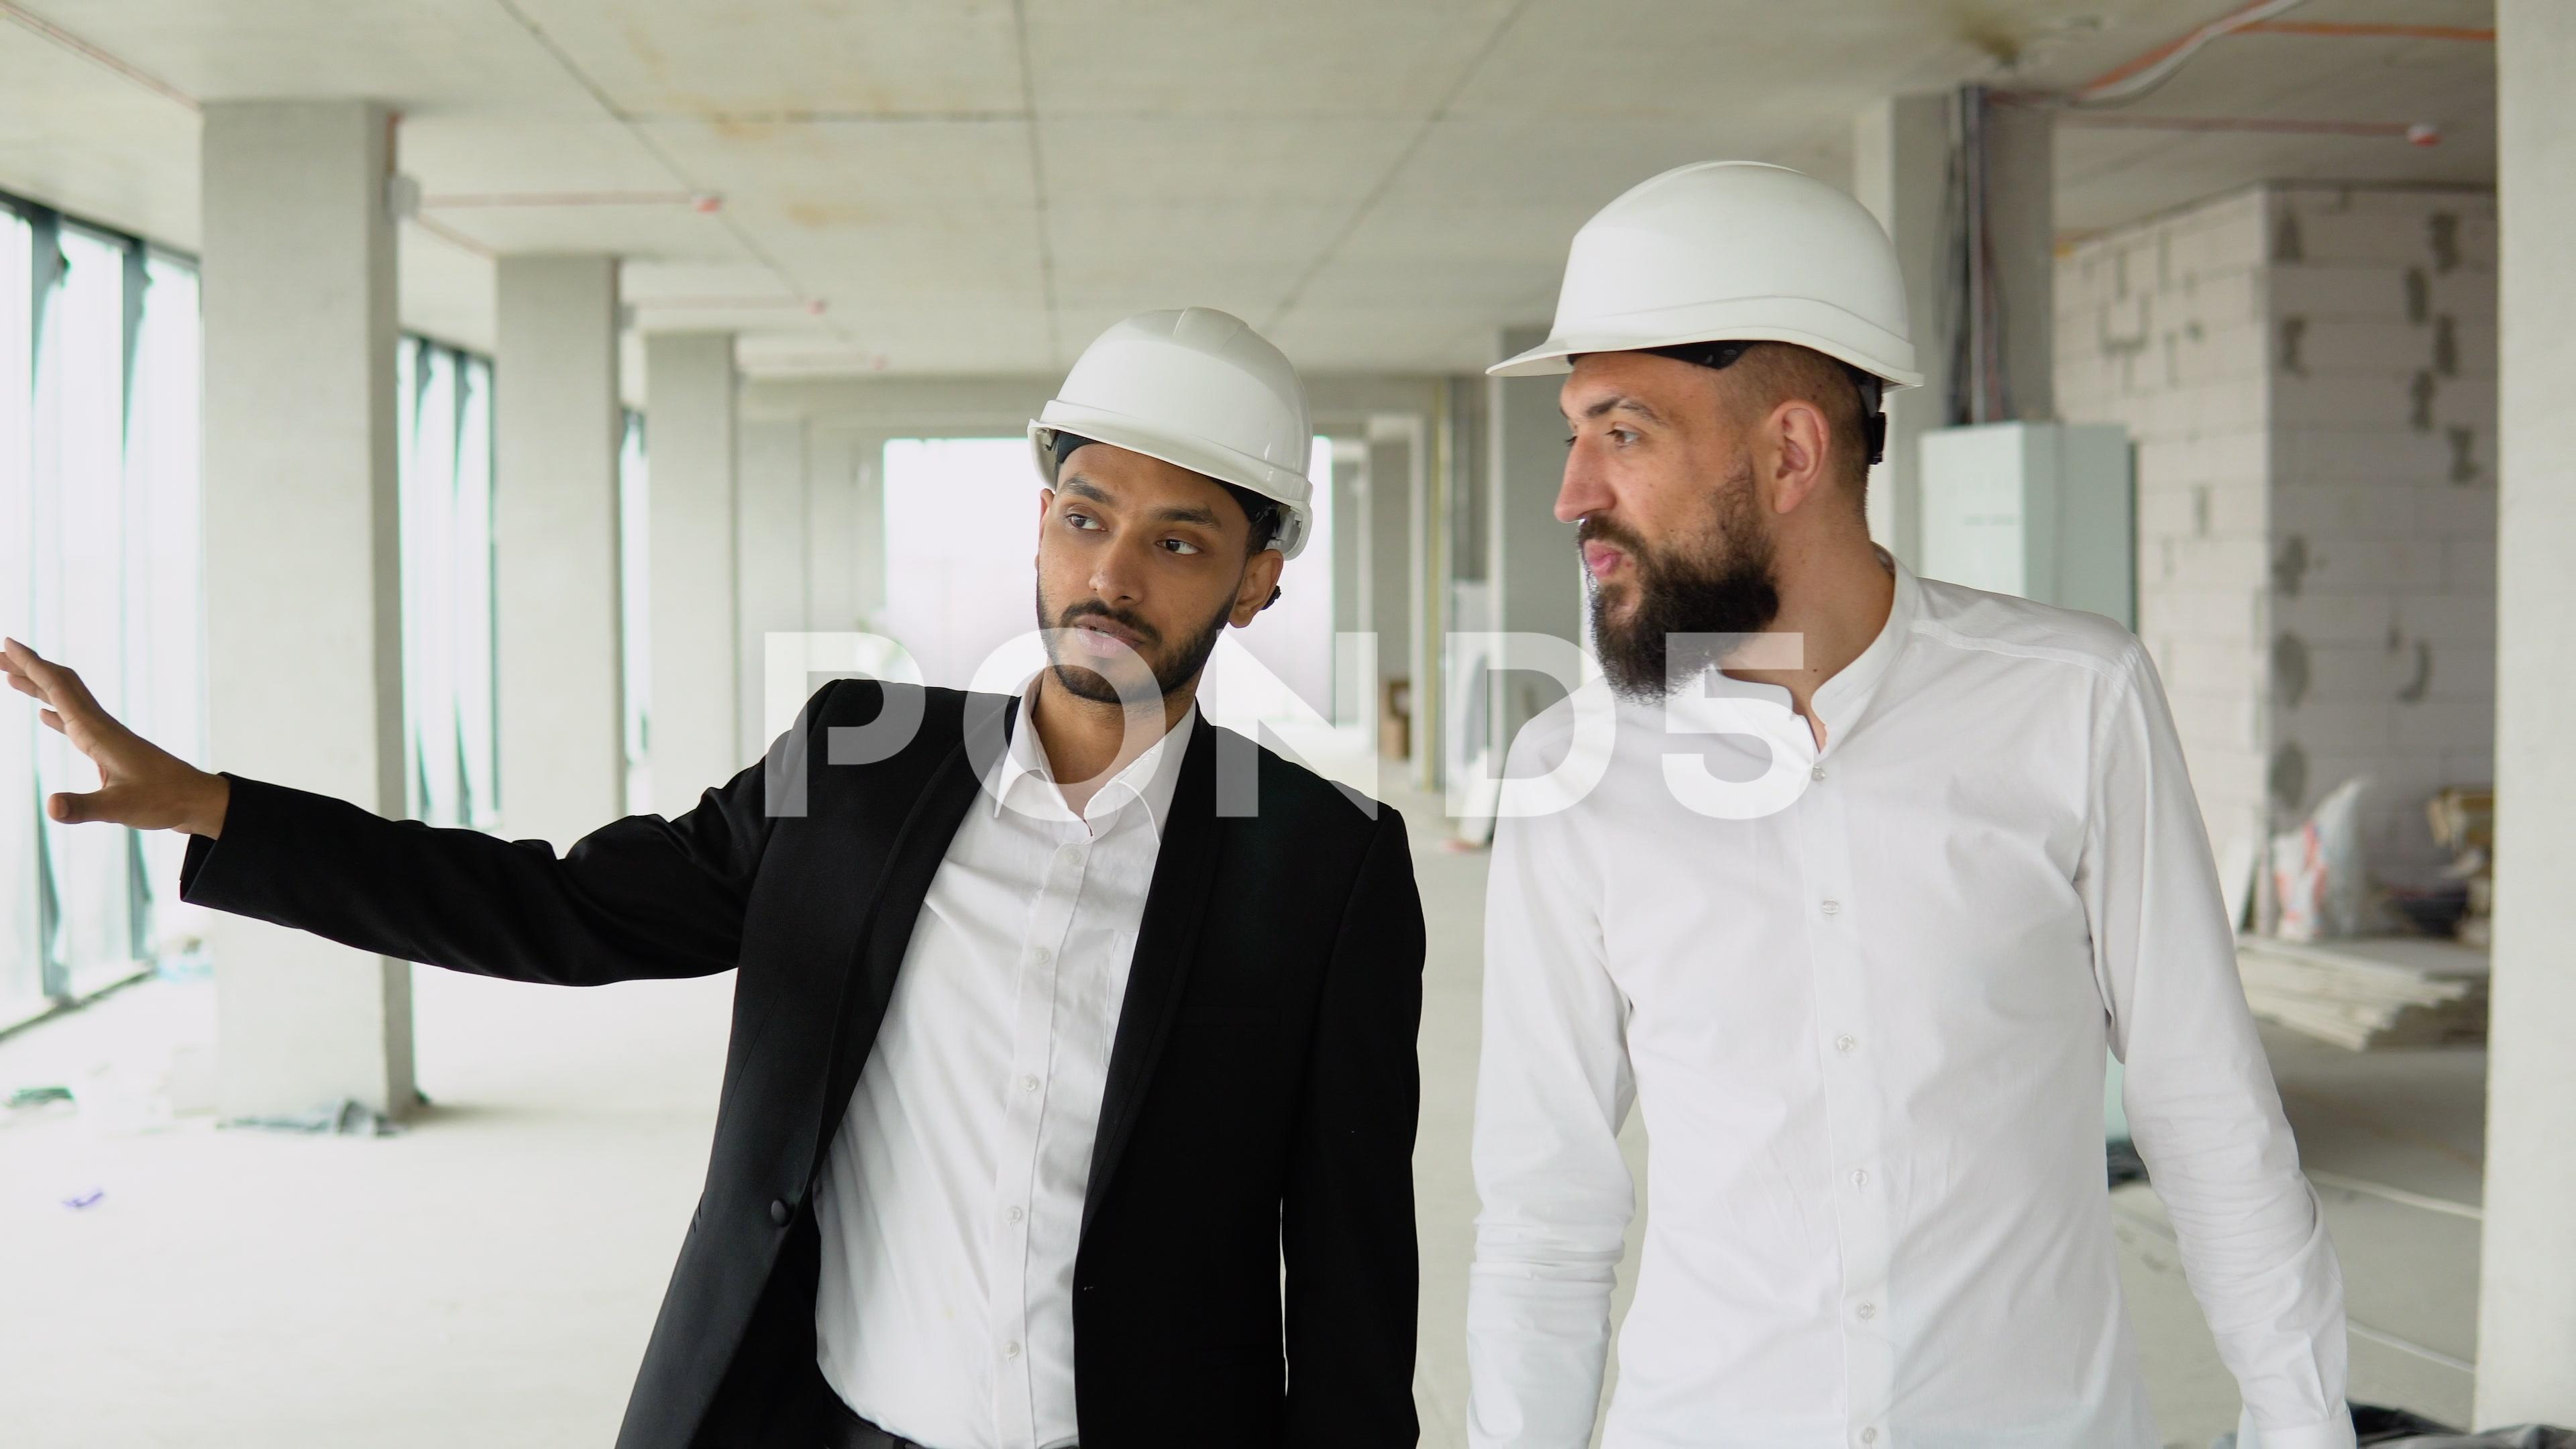hat: (1456, 156, 1987, 444), (984, 258, 1359, 598)
